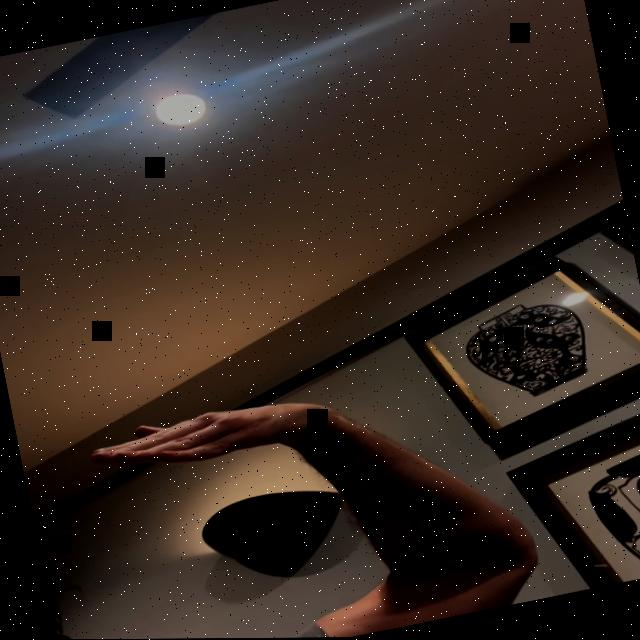Paper: (86, 387, 334, 481)
